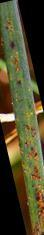Wheat: (4, 20, 27, 89)
